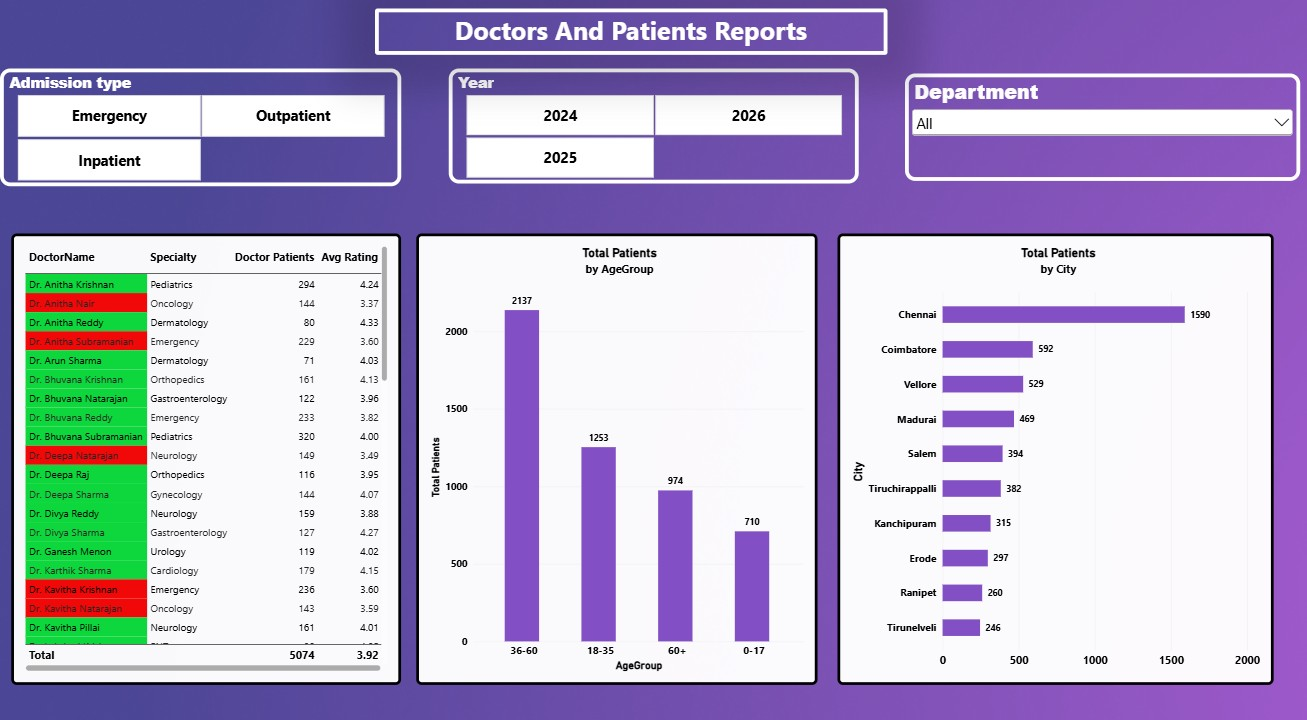

The page's visual inventory and layout, read from the dashboard file:
{"tool":"powerbi","page":{"name":"doctors and patient","canvas":[1920,1080],"ordinal":2},"visuals":[{"type":"slicer","fields":{"Values":["Departments.DepartmentName"]},"box":[1328,113.7,579.6,157.7],"z":0},{"type":"slicer","fields":{"Values":["Datetable.Year"]},"box":[658.5,106.4,601.6,168.8],"z":1},{"type":"slicer","fields":{"Values":["Admissions.AdmissionType"]},"box":[0,106.4,588.8,172.4],"z":2},{"type":"tableEx","fields":{"Values":["Doctors.DoctorName","Doctors.Specialty","_Measures.Doctor Patients","_Measures.Avg Rating"]},"box":[16.5,348.5,572.3,662.2],"z":3},{"type":"columnChart","fields":{"Category":["Patients.AgeGroup"],"Y":["_Measures.Total Patients"]},"box":[610.8,348.5,588.8,662.2],"z":4},{"type":"barChart","fields":{"Category":["Patients.City"],"Y":["_Measures.Total Patients"]},"box":[1228.9,348.5,640.2,662.2],"z":5},{"type":"textbox","box":[550.3,18.3,752,67.9],"z":6}]}

Visuals, with their boxes in screenshot pixels (x1, y1, x2, y2), scaled from the page's 1920x1080 canvas onto the 1307x720 screenshot:
slicer - Departments.DepartmentName: bbox=[904, 76, 1299, 181]
slicer - Datetable.Year: bbox=[448, 71, 858, 183]
slicer - Admissions.AdmissionType: bbox=[0, 71, 401, 186]
tableEx - Doctors.DoctorName x Doctors.Specialty: bbox=[11, 232, 401, 674]
columnChart - Patients.AgeGroup x _Measures.Total Patients: bbox=[416, 232, 817, 674]
barChart - Patients.City x _Measures.Total Patients: bbox=[837, 232, 1272, 674]
textbox: bbox=[375, 12, 887, 57]
